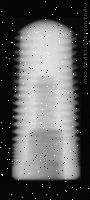Implant Direct: (12, 18, 81, 180)
